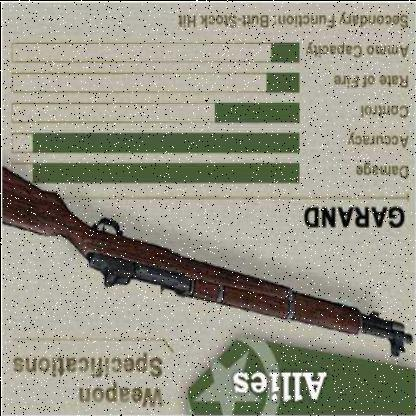rifle: (1, 141, 414, 359)
